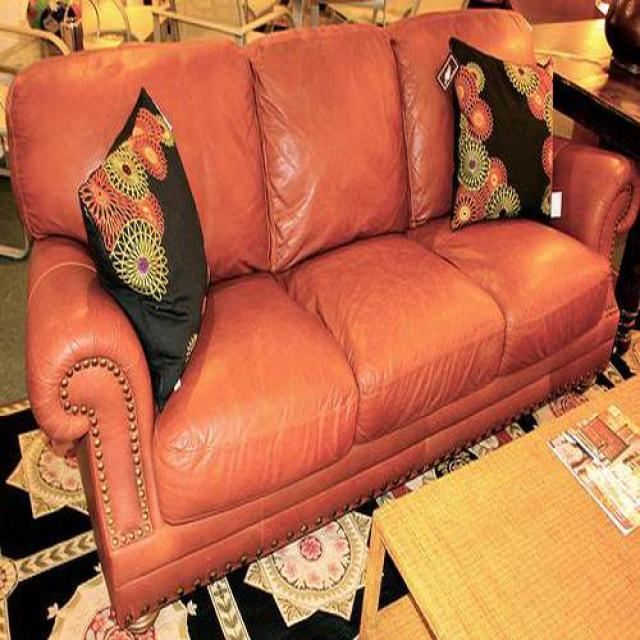sofa: (4, 9, 640, 640)
